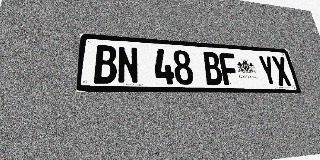4: (153, 48, 175, 85)
8: (172, 50, 194, 85)
B: (94, 45, 117, 84), (202, 52, 224, 85)
F: (218, 53, 240, 85)
N: (117, 46, 139, 84)
X: (271, 56, 292, 86)
Y: (257, 55, 279, 86)
